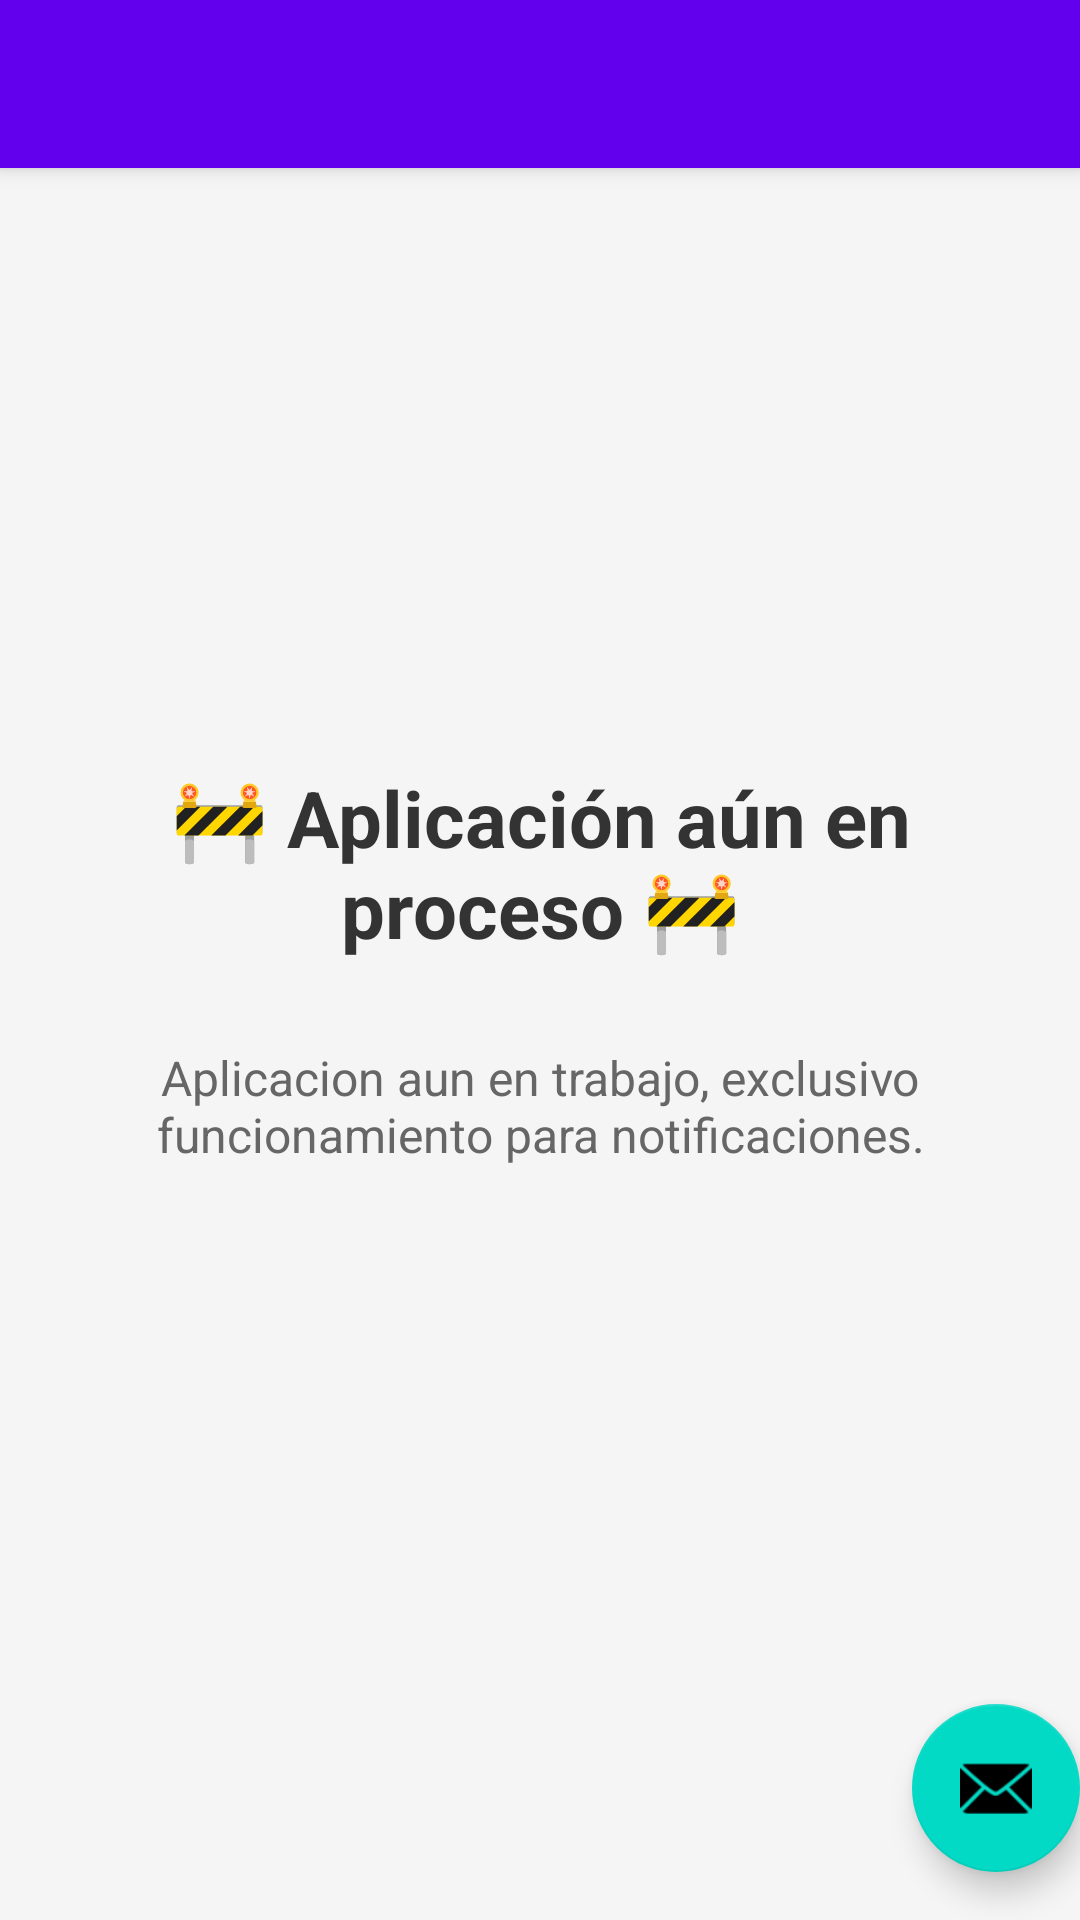

Named icons in this screenshot (1080x1920) and their centers, (x=x, y=y):
email: (x=996, y=1788)
